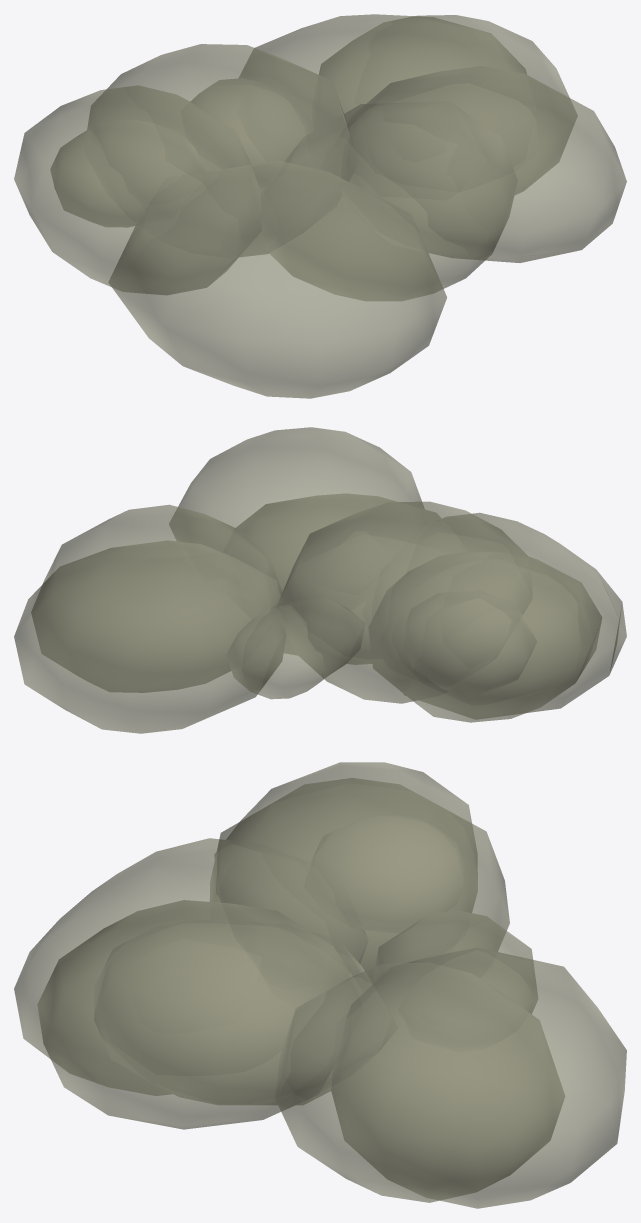
The model's file is lake-turbid-shallows-0.glb.
The picture shows the model from 3 angles, top to bottom: view 1: azimuth 30°, elevation 25°; view 2: azimuth 150°, elevation 25°; view 3: azimuth 270°, elevation 25°; orthographic projection. The views are drawn at different scales.
Parts seen in each view (by area): view 1: lake-turbid-shallows-0; view 2: lake-turbid-shallows-0; view 3: lake-turbid-shallows-0.
Part boxes in pixels (left/top/right/bottom): lake-turbid-shallows-0: left=14, top=14, right=626, bottom=398; lake-turbid-shallows-0: left=14, top=427, right=626, bottom=733; lake-turbid-shallows-0: left=14, top=762, right=626, bottom=1208.
Bounding box in the file's own units: 1.85 × 0.7916 × 1.58.
